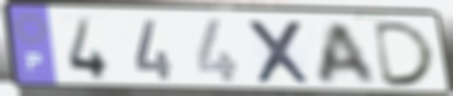4: (64, 15, 114, 83), (194, 17, 241, 85), (132, 18, 174, 82)
A: (315, 21, 380, 86)
D: (372, 20, 440, 88)
X: (243, 18, 315, 86)
